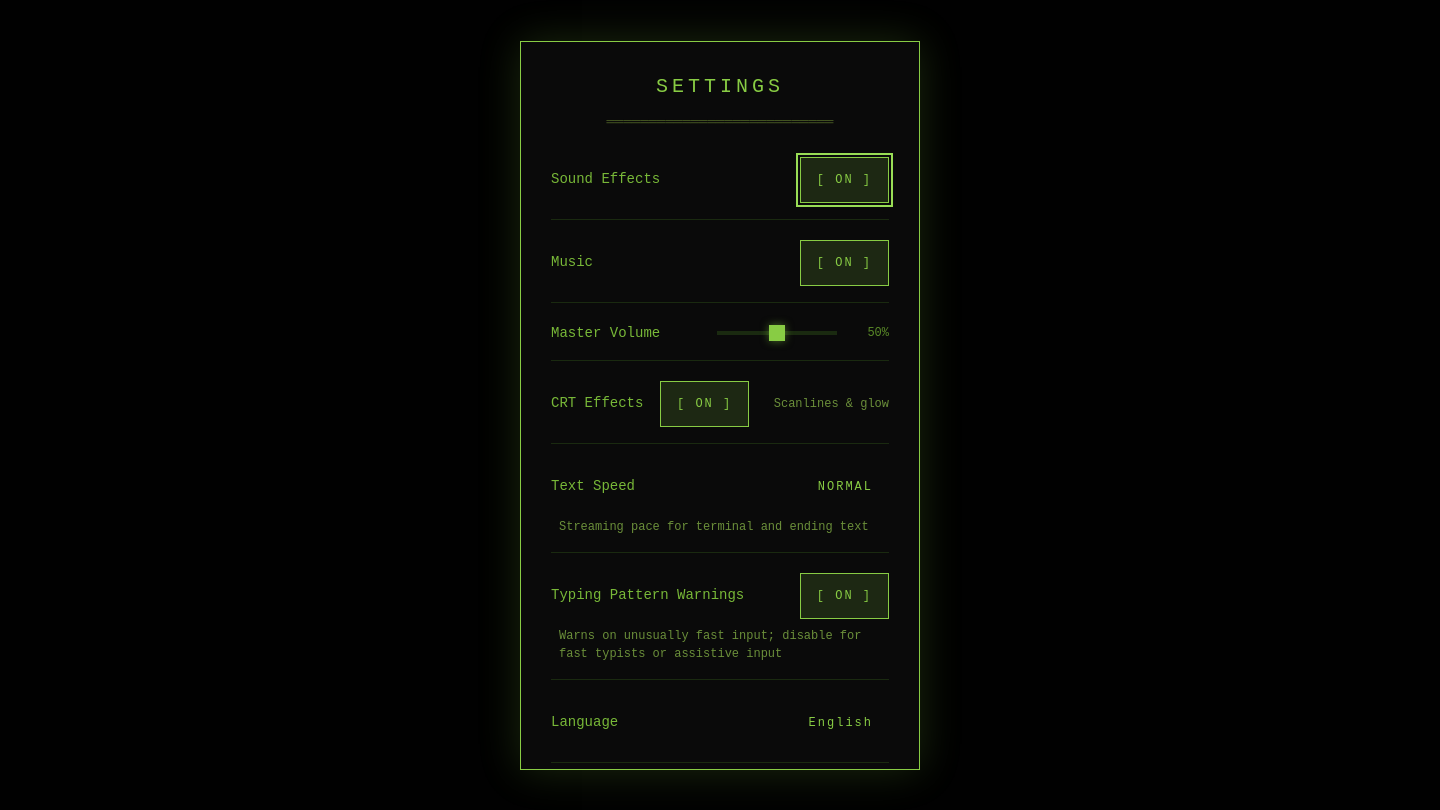
it: SettingsModal › toggles typing pattern warnings and saves to shared options storage
Click the button "[ ON ]" next to "Typing Pattern Warnings".
click(844, 596)  # box left=800, top=572, right=889, bottom=618
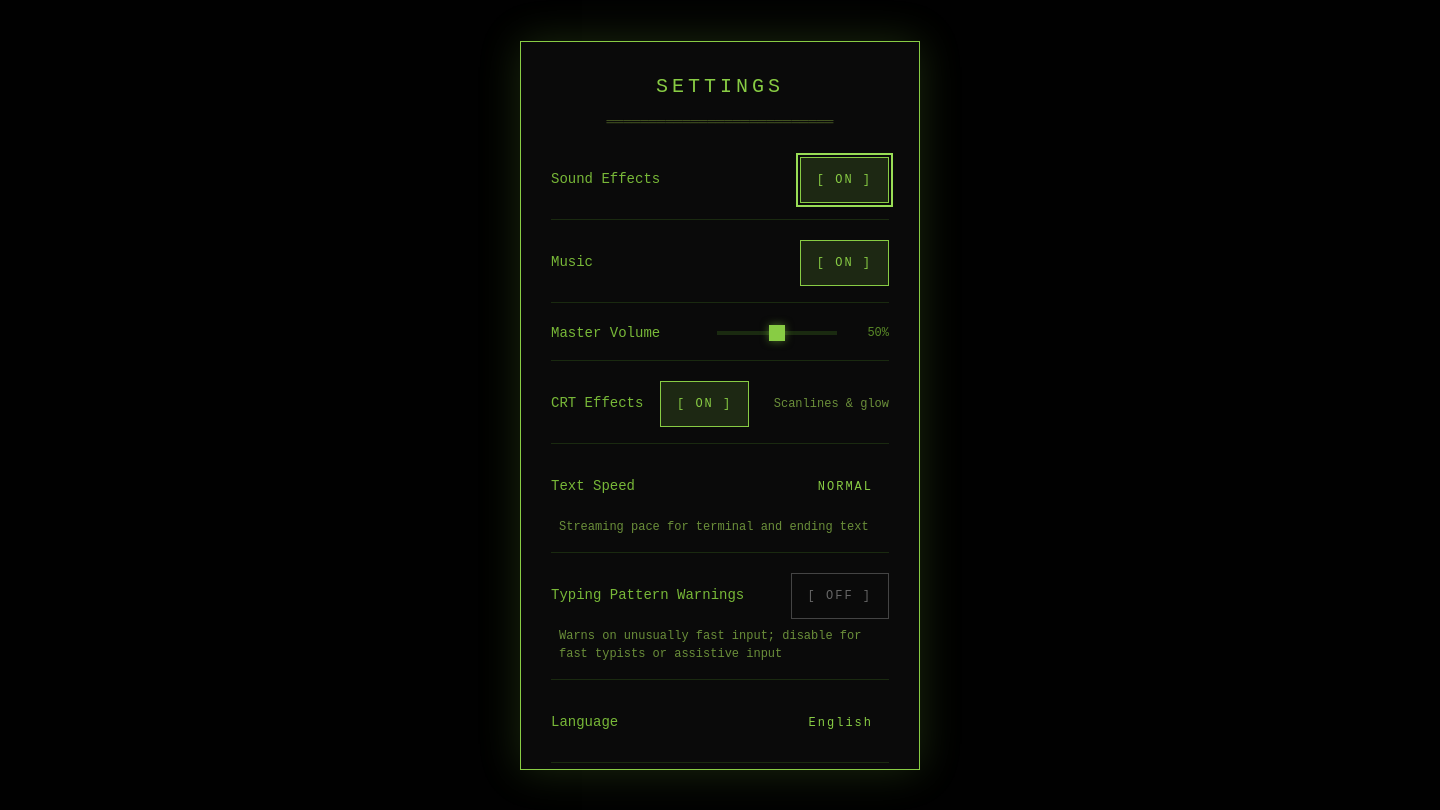
Expected: the button "[ OFF ]" is shown, left=791, top=572, right=889, bottom=618
